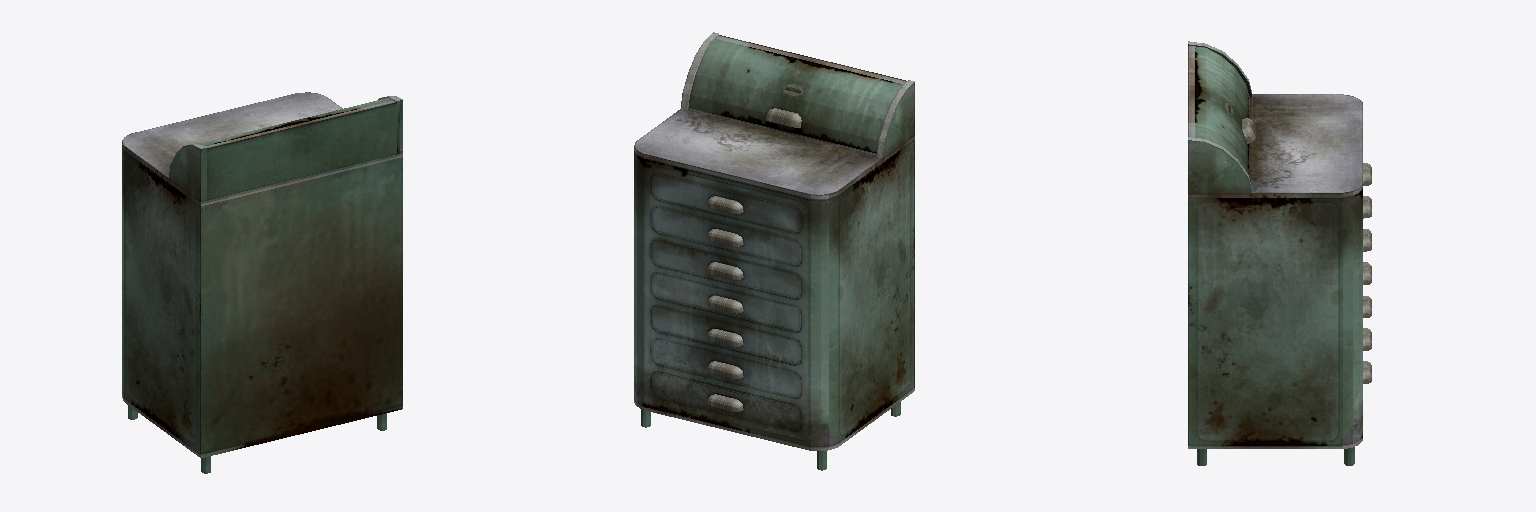
3 views of the same model, side by side, from view 1: azimuth 30°, elevation 25°; view 2: azimuth 150°, elevation 25°; view 3: azimuth 270°, elevation 25° (orthographic).
Visible parts, largest first — view 1: Mesh0; view 2: Mesh0; view 3: Mesh0.
Boxes of the visible parts, x1=… form: Mesh0: x1=122, y1=92, x2=402, y2=473; Mesh0: x1=634, y1=32, x2=914, y2=470; Mesh0: x1=1188, y1=41, x2=1371, y2=465.
Bounding box in the file's own units: 76.9 × 120 × 60.85.
1 materials, 1 textured.